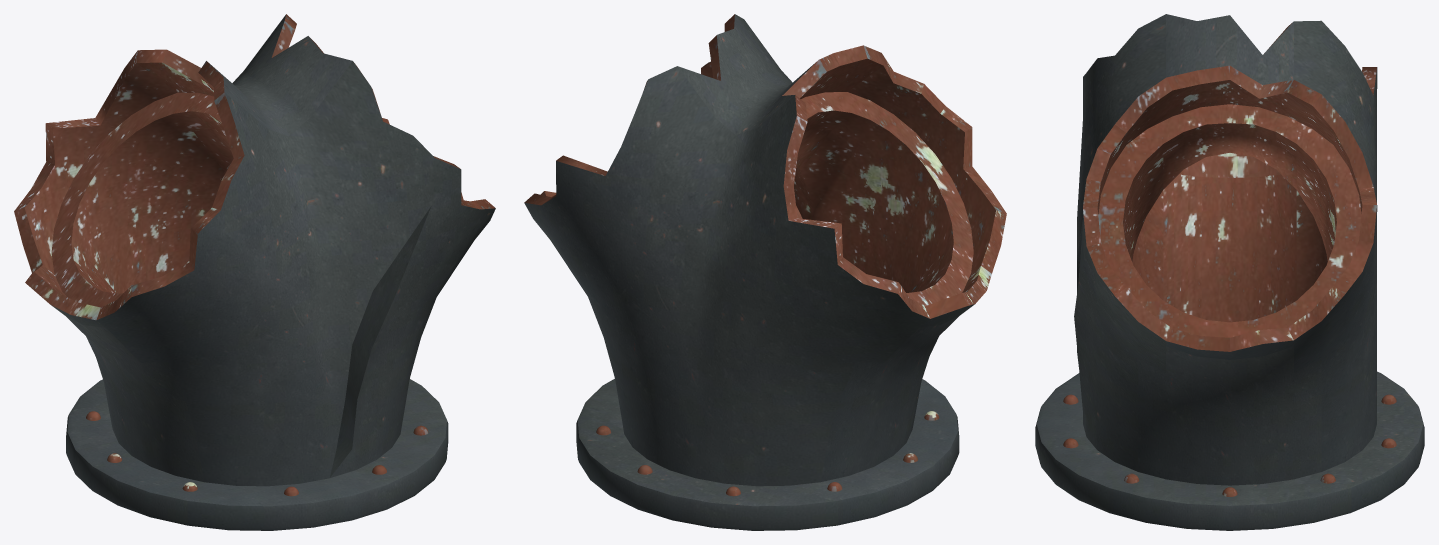
Rendered from Powerplant_Model_Environment_BrokeTPipeTextured.fbx.
The picture shows the model from 3 angles, left to right: view 1: azimuth 30°, elevation 25°; view 2: azimuth 150°, elevation 25°; view 3: azimuth 270°, elevation 25°; orthographic projection.
Visible parts, largest first — view 1: T Pipe; view 2: T Pipe; view 3: T Pipe.
Part boxes in pixels (left/top/right/bottom): T Pipe: left=14, top=14, right=495, bottom=530; T Pipe: left=524, top=14, right=1006, bottom=530; T Pipe: left=1035, top=14, right=1424, bottom=530.
Bounding box in the file's own units: 62.02 × 55.35 × 47.62.
Materials: 2 (2 with a texture image).
